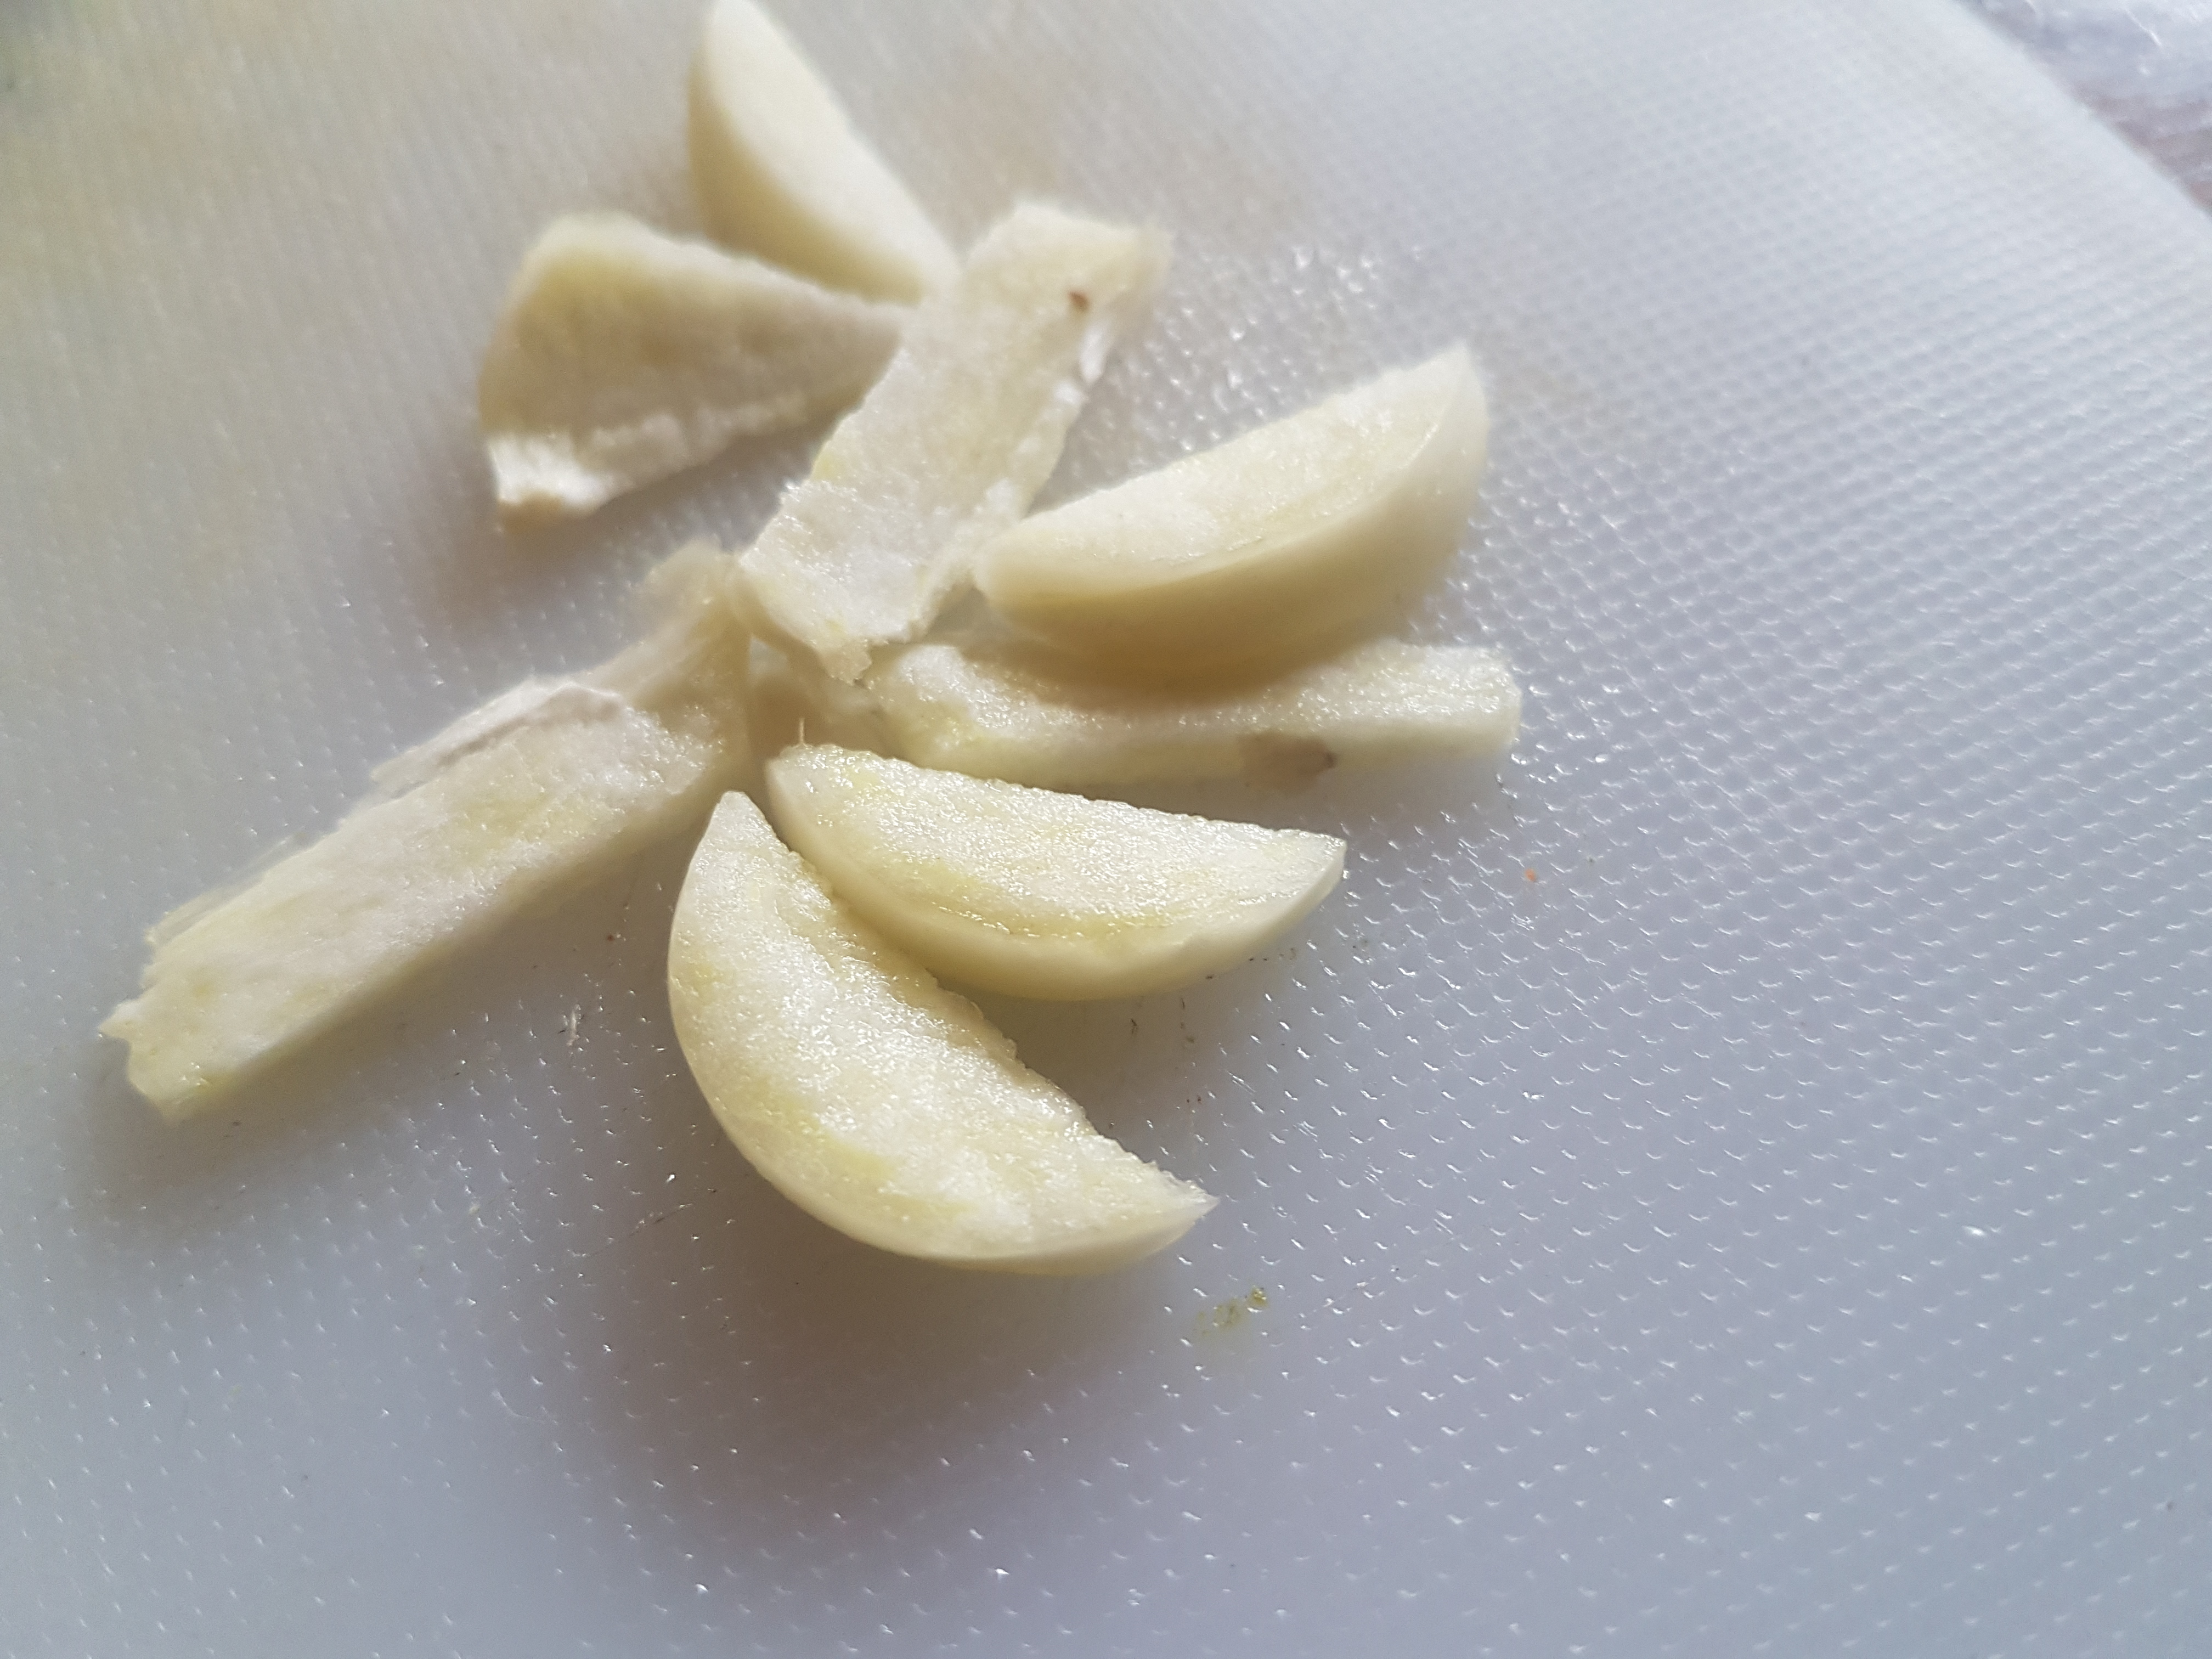Garlic cloves: (127, 16, 1719, 1368)
